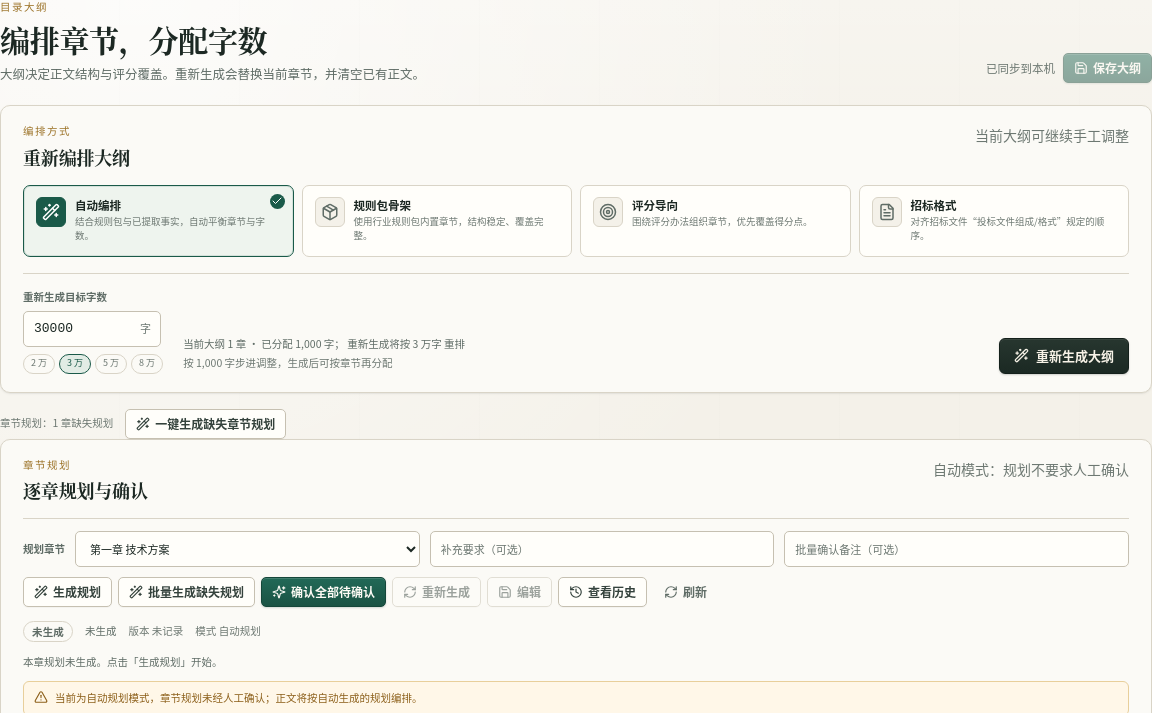
OutlineTab chapter planning panel › shows an explicit 未生成 state and generates a plan
expect the heading "逐章规划与确认" is shown: met, box 23,476 -> 148,505
expect the text "本章规划未生成。点击「生成规划」开始。" is shown: met, box 23,654 -> 222,669
Click the button "生成规划" at x=68, y=592, box 23,577 -> 112,607
(page scrolled)
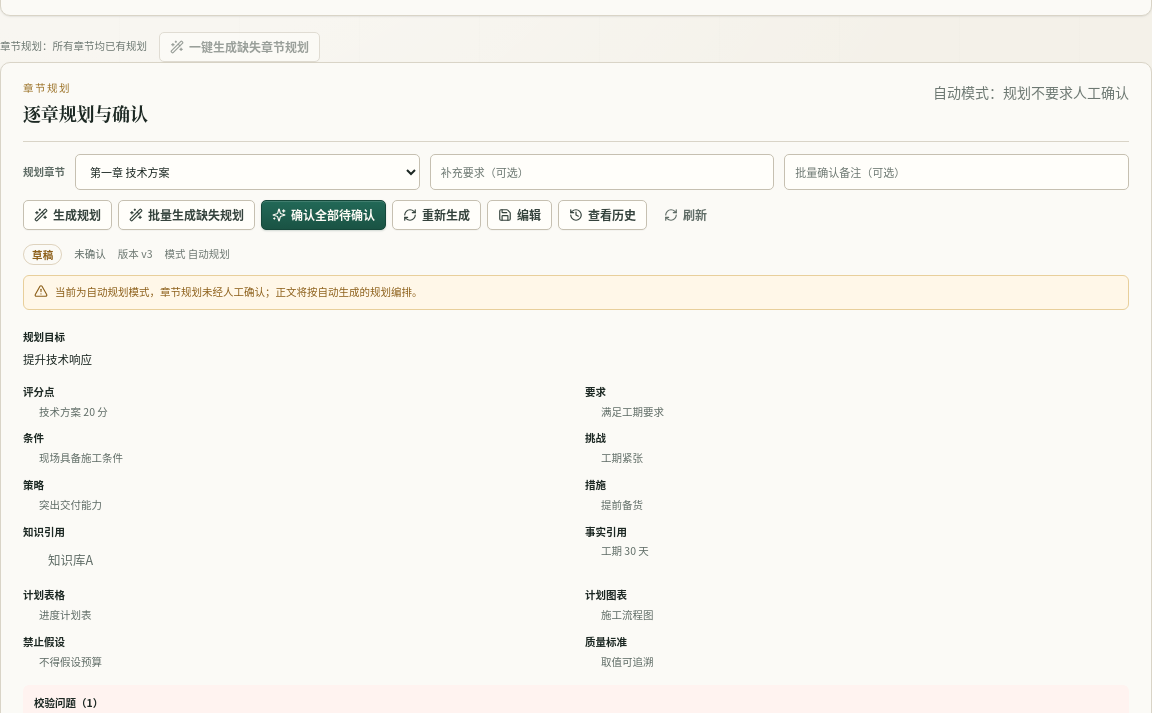
expect the text "提升技术响应" is shown: met, box 23,351 -> 92,367
